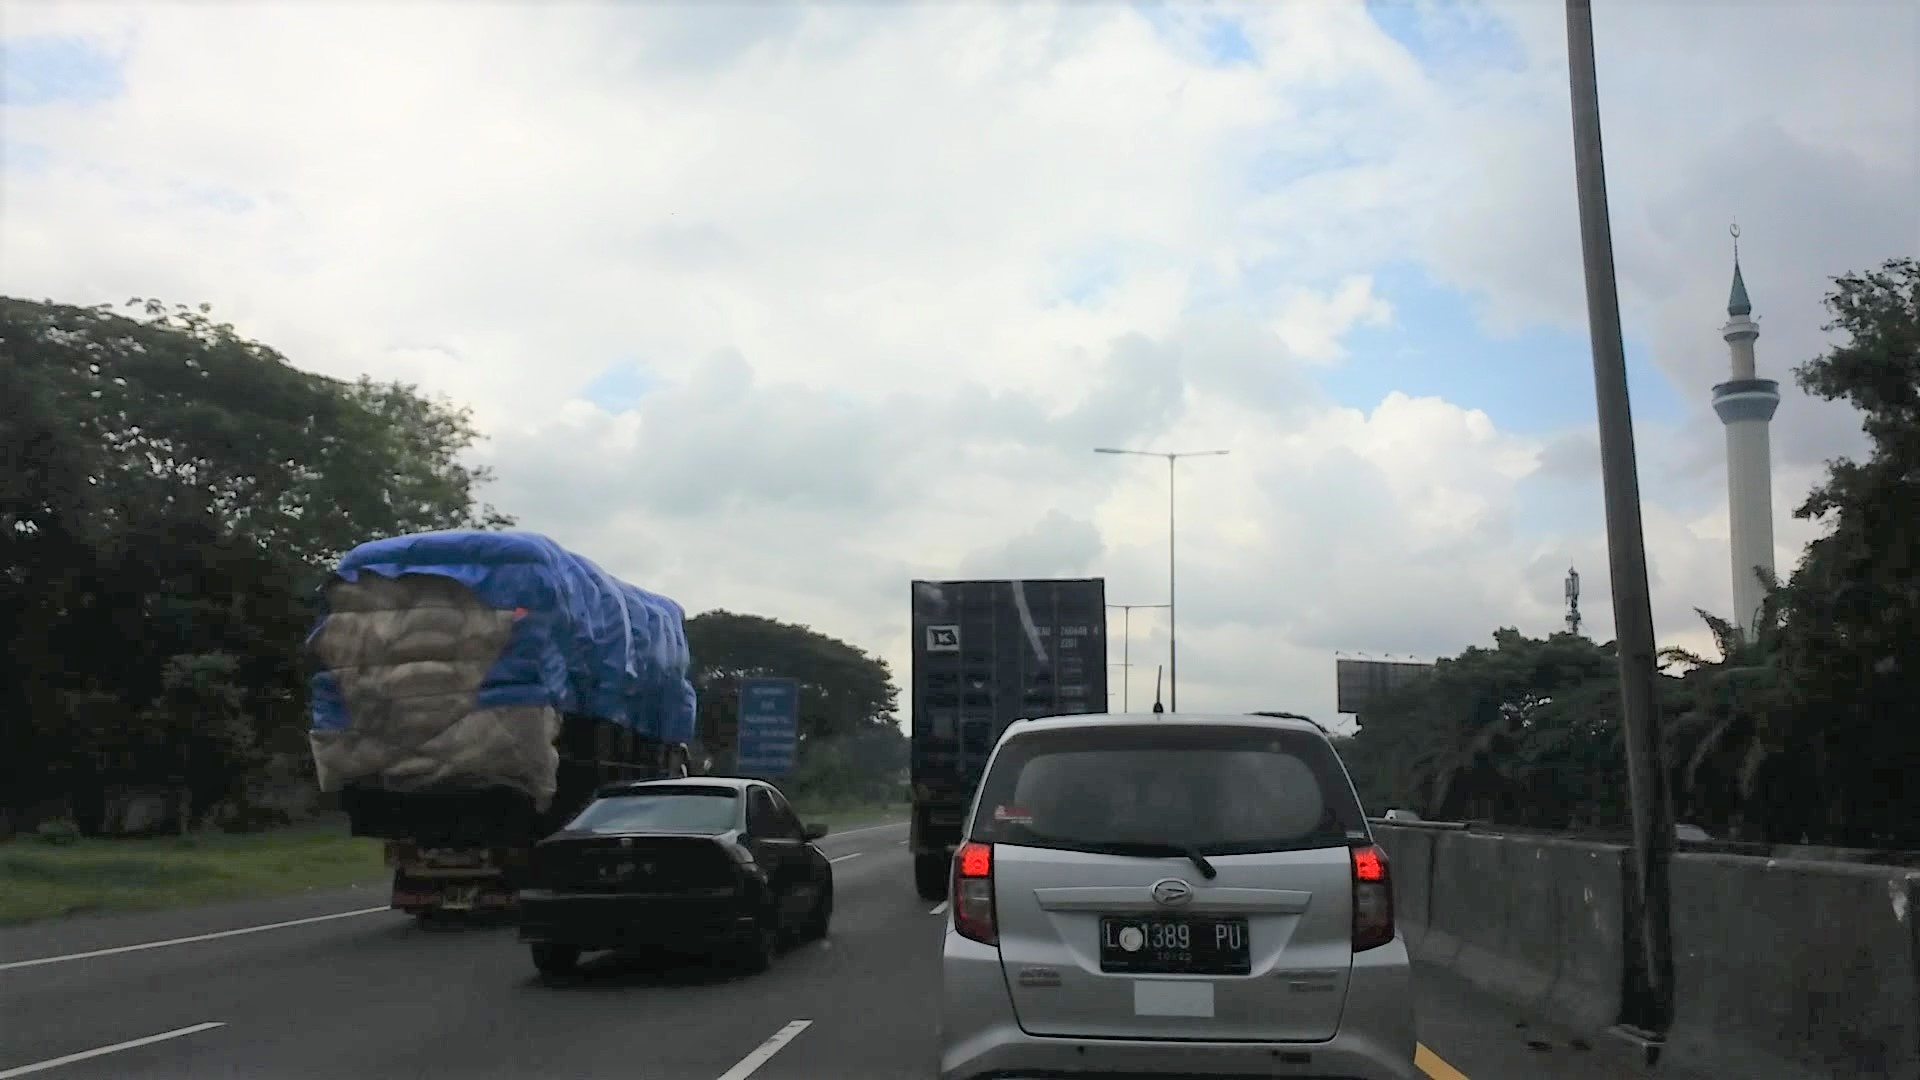plate_positive: (1101, 914, 1251, 975)
